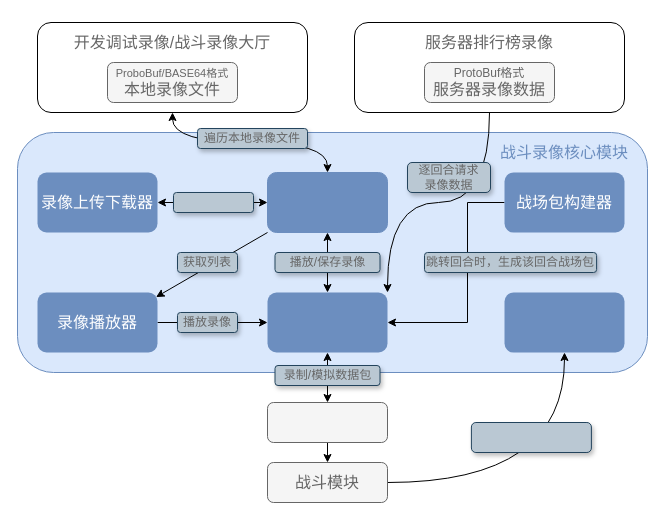
This 665x520 diagram has some shape labels left out. Here are the shapes that lost their labels. From the top down, the centre of each, then its label:
At point (214, 204): "上传/下载录像".
At point (327, 202): "录像文件管理器".
At point (327, 322): "录像管理器".
At point (564, 322): "战斗文字播报器".
At point (327, 422): "网络模块".
At point (531, 439): "根据表演事件产生 战斗文字播报".
